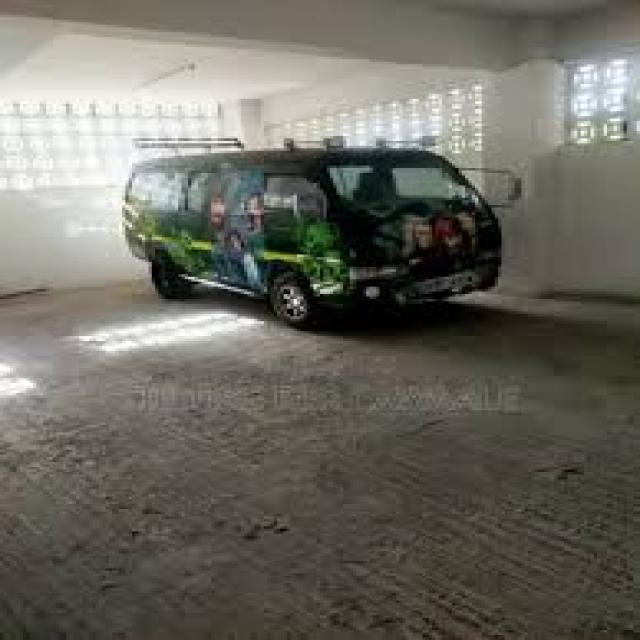matatu: (77, 88, 561, 418)
